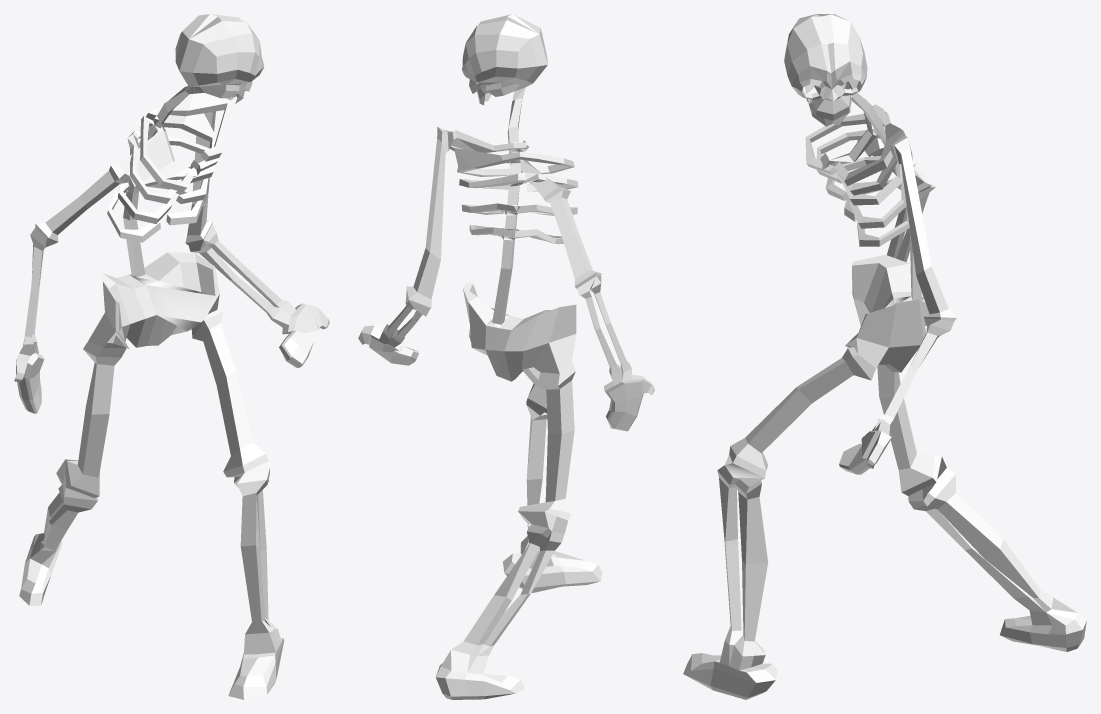
The model's file is SkeletonIdle(31).obj.
3 renders of one model, left to right at view 1: azimuth 30°, elevation 25°; view 2: azimuth 150°, elevation 25°; view 3: azimuth 270°, elevation 25°, orthographic. The views are drawn at different scales.
Parts seen in each view (by area): view 1: Object002; view 2: Object002; view 3: Object002.
Boxes of the visible parts, x1,y1,x2,y2 form: Object002: (14, 14, 329, 699); Object002: (358, 14, 654, 699); Object002: (683, 14, 1086, 699).
Size of the model in its own units: 575 by 1109 by 604.
